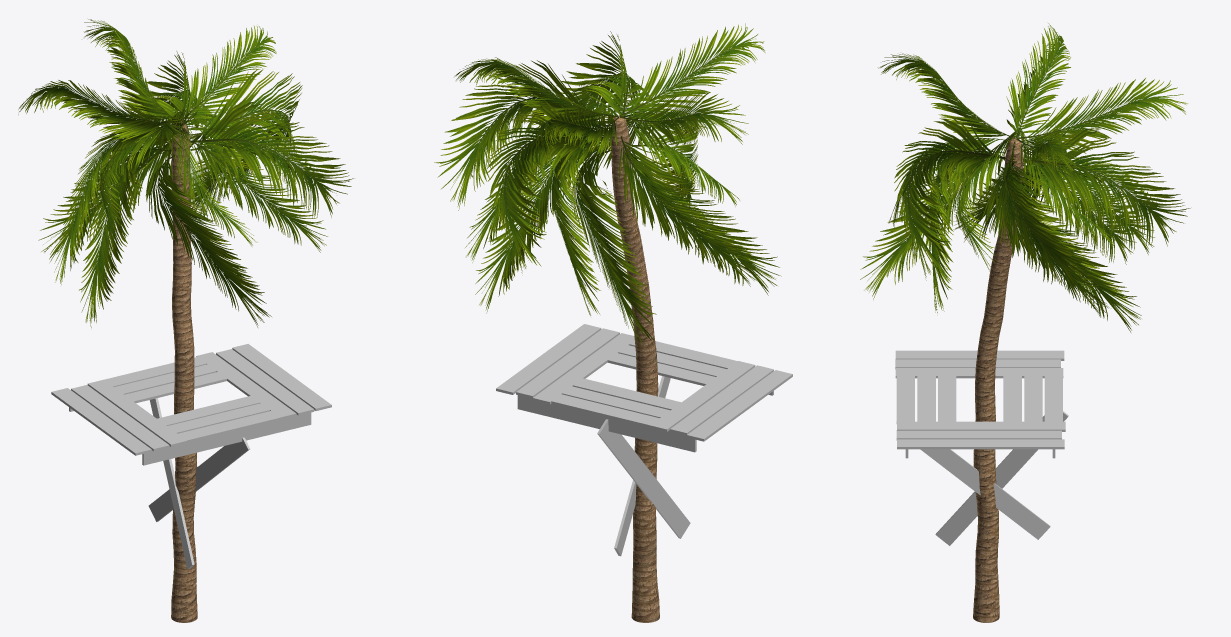
The model's file is Date Tree.fbx.
The picture shows the model from 3 angles, left to right: view 1: azimuth 30°, elevation 25°; view 2: azimuth 150°, elevation 25°; view 3: azimuth 270°, elevation 25°; orthographic projection. The views are drawn at different scales.
Parts seen in each view (by area): view 1: Coconut_Palm_Tree10__2_, wood; view 2: Coconut_Palm_Tree10__2_, wood; view 3: Coconut_Palm_Tree10__2_, wood.
Boxes of the visible parts, x1,y1,x2,y2 form: Coconut_Palm_Tree10__2_: (18, 19, 353, 622); wood: (51, 344, 331, 569); Coconut_Palm_Tree10__2_: (434, 23, 781, 622); wood: (496, 324, 792, 556); Coconut_Palm_Tree10__2_: (860, 23, 1190, 622); wood: (895, 350, 1068, 545).
Bounding box in the file's own units: 945 × 1641 × 1033.
